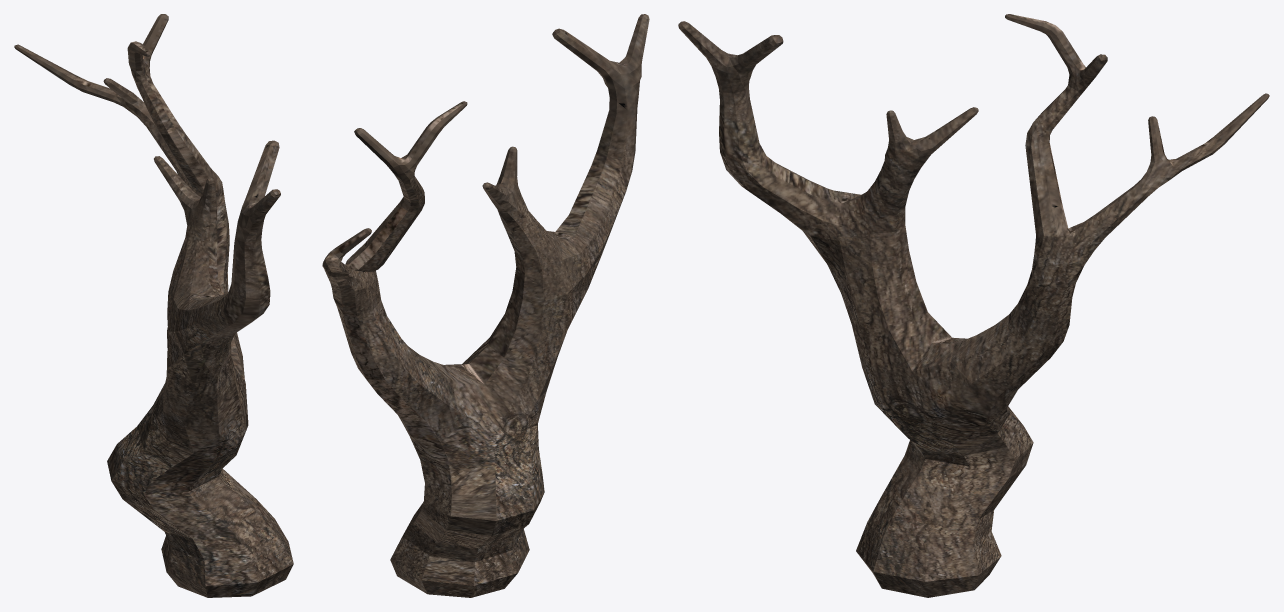
Rendered from bush2.obj.
The picture shows the model from 3 angles, left to right: view 1: azimuth 30°, elevation 25°; view 2: azimuth 150°, elevation 25°; view 3: azimuth 270°, elevation 25°; orthographic projection. The views are drawn at different scales.
Parts seen in each view (by area): view 1: Bush2_Cube.007; view 2: Bush2_Cube.007; view 3: Bush2_Cube.007.
Part boxes in pixels (left/top/right/bottom): Bush2_Cube.007: left=14, top=14, right=293, bottom=597; Bush2_Cube.007: left=322, top=14, right=649, bottom=597; Bush2_Cube.007: left=678, top=14, right=1269, bottom=597.
Bounding box in the file's own units: 1.57 × 5.01 × 4.92.
